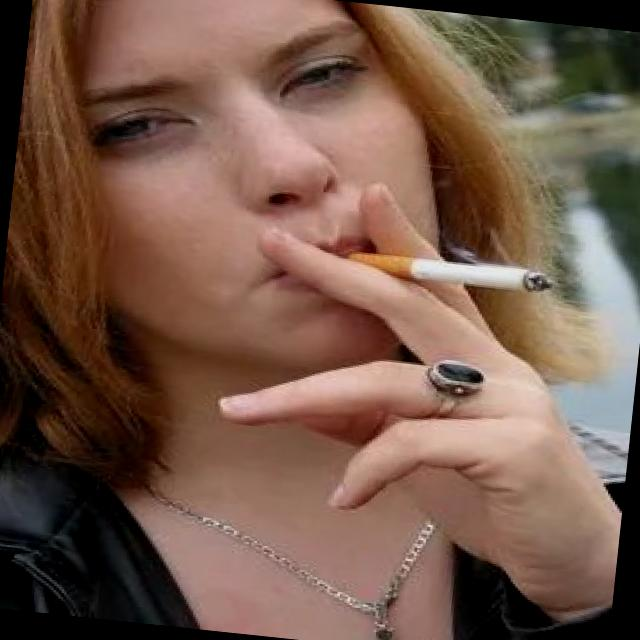smoke: (340, 246, 562, 301)
